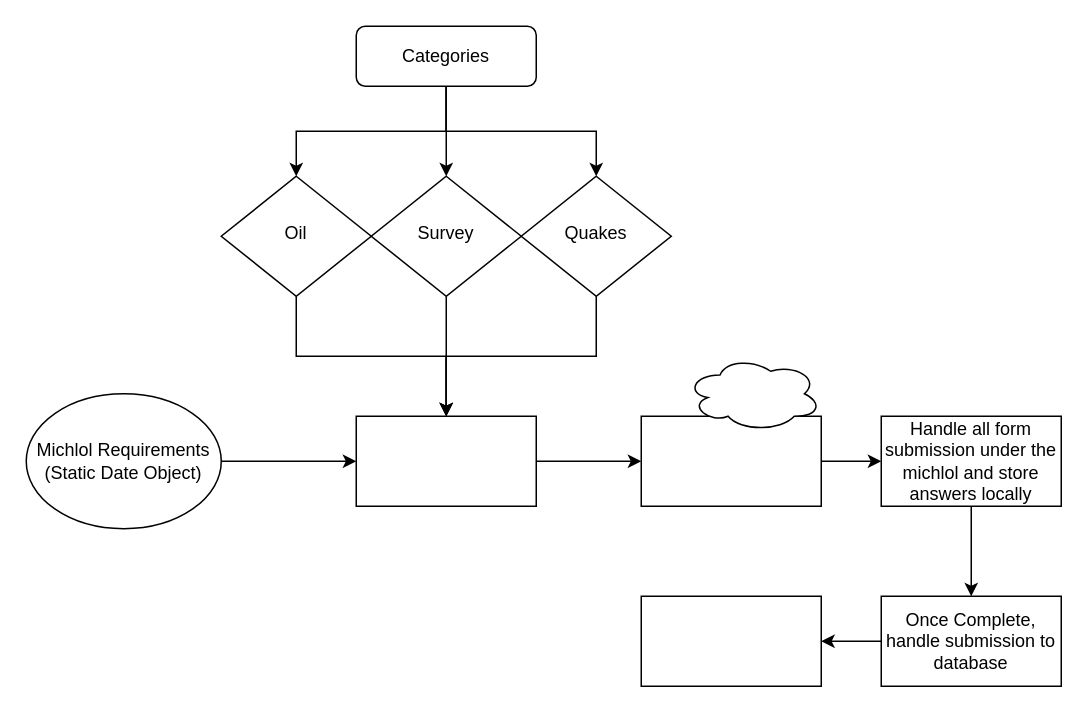
The diagram is 1088 pixels wide and 713 high, and some of its shapes have lost their labels. Here are the shapes that lost their labels. From the top down, the box of each, then its label:
(685, 355, 821, 431): Report
(355, 415, 536, 506): Michlolim
(640, 415, 821, 506): Render the michlol array under the report category
(640, 595, 821, 686): TBD
